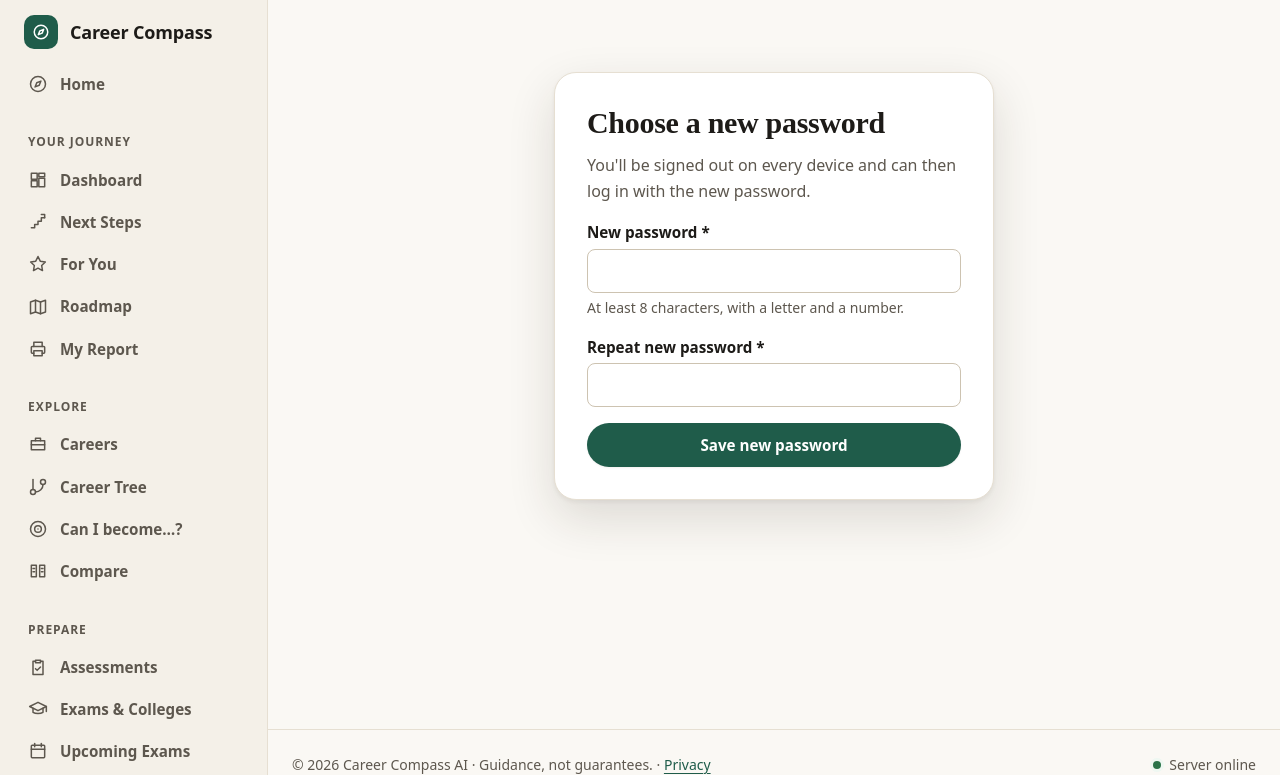
Test case: Forgot and reset password › sets a new password from the email link and goes to login
The width and height of the screenshot is (1280, 775).
In the password field labelled "New password *": point(774, 270) 587,248 -> 961,292, type "newpass99"
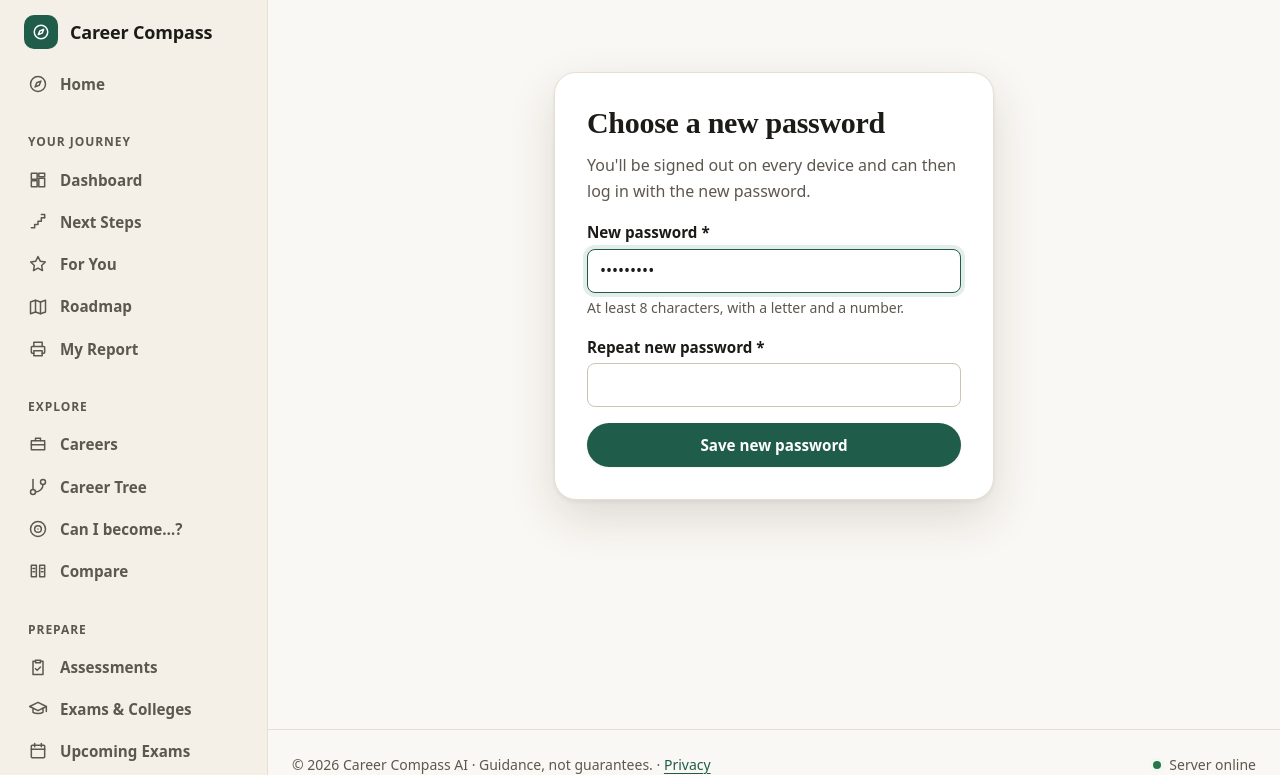
In the password field labelled "Repeat new password *": point(774, 385) 587,363 -> 961,407, type "different1"
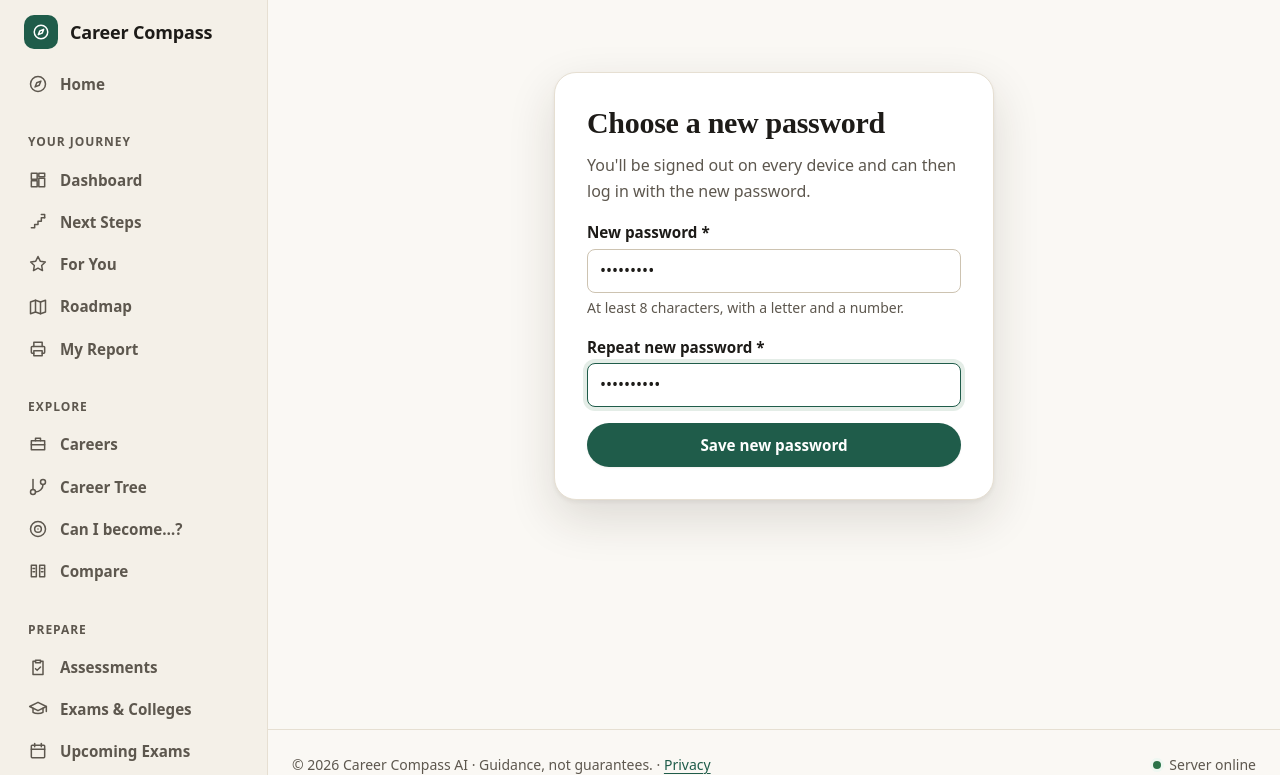
Click the button "Save new password": point(774, 445) 587,423 -> 961,467
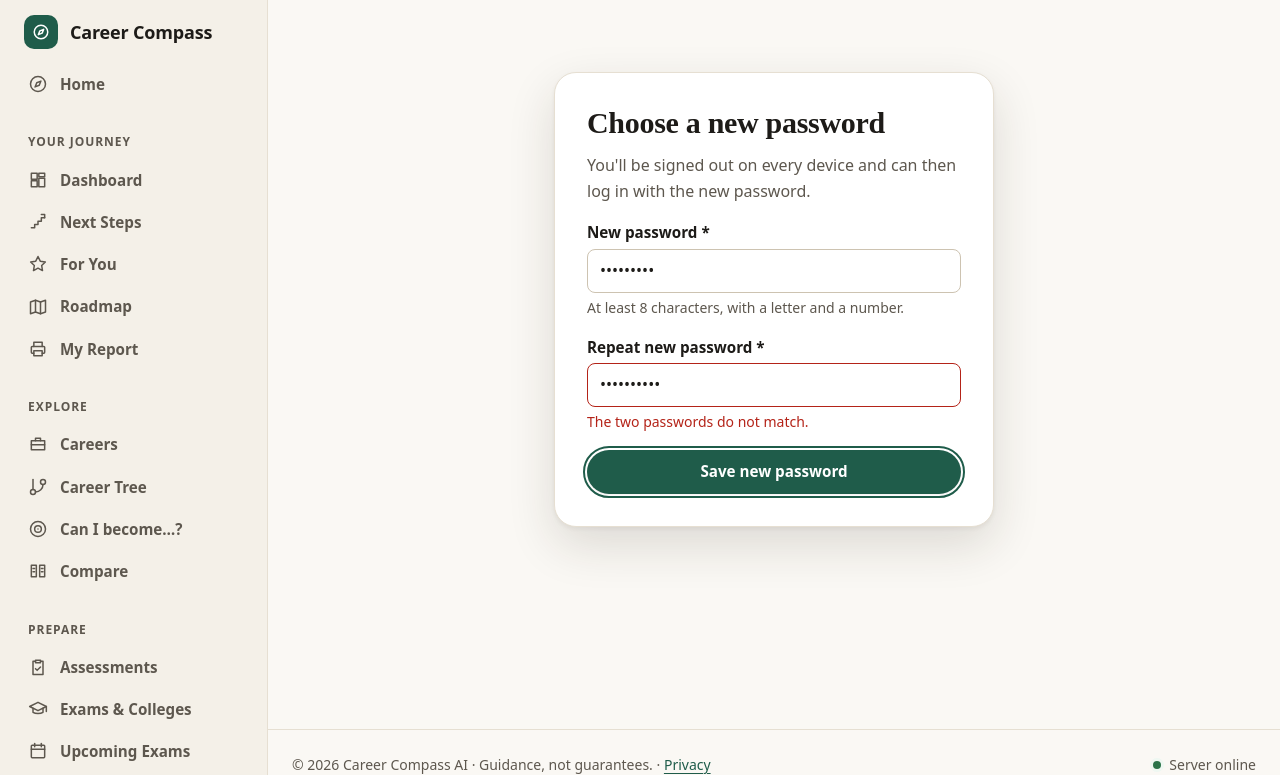
Now the text "The two passwords do not match." is shown, box 587,412 -> 809,431
In the password field labelled "Repeat new password *": point(774, 385) 587,363 -> 961,407, type "newpass99"
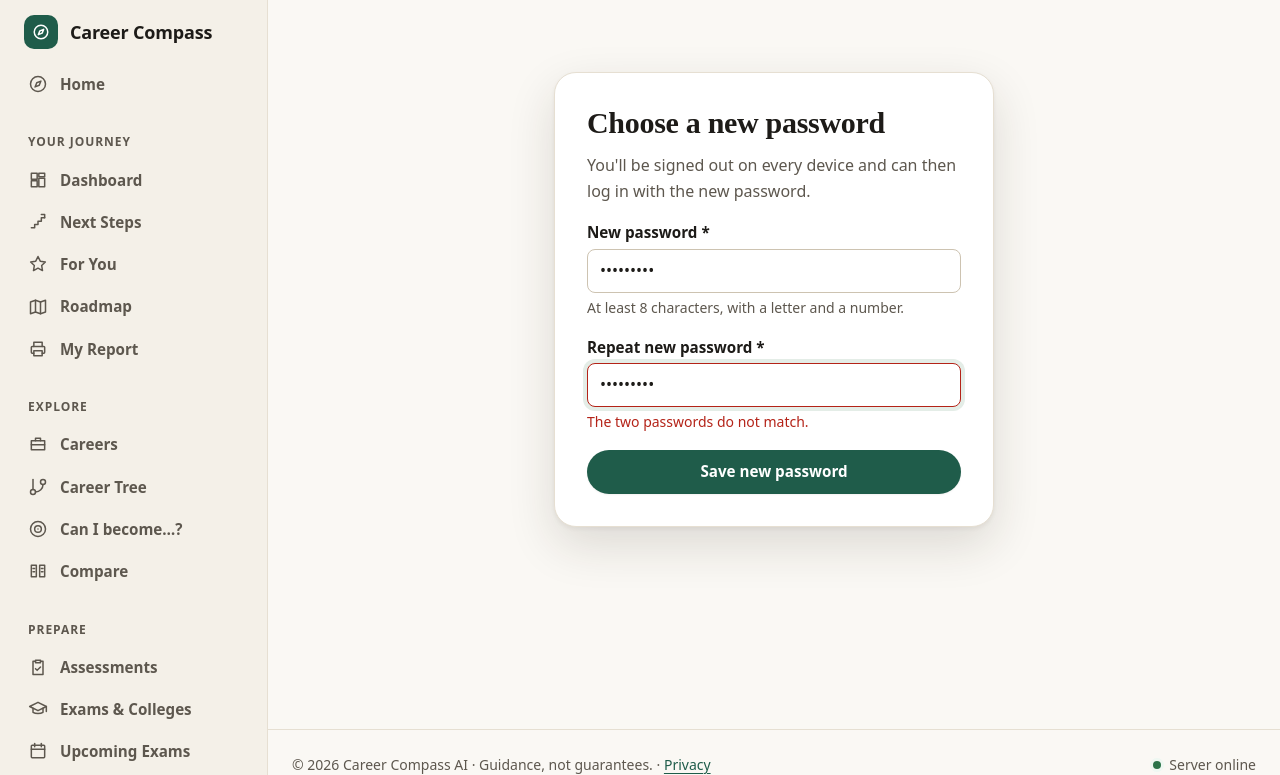
Click the button "Save new password": point(774, 472) 587,450 -> 961,494
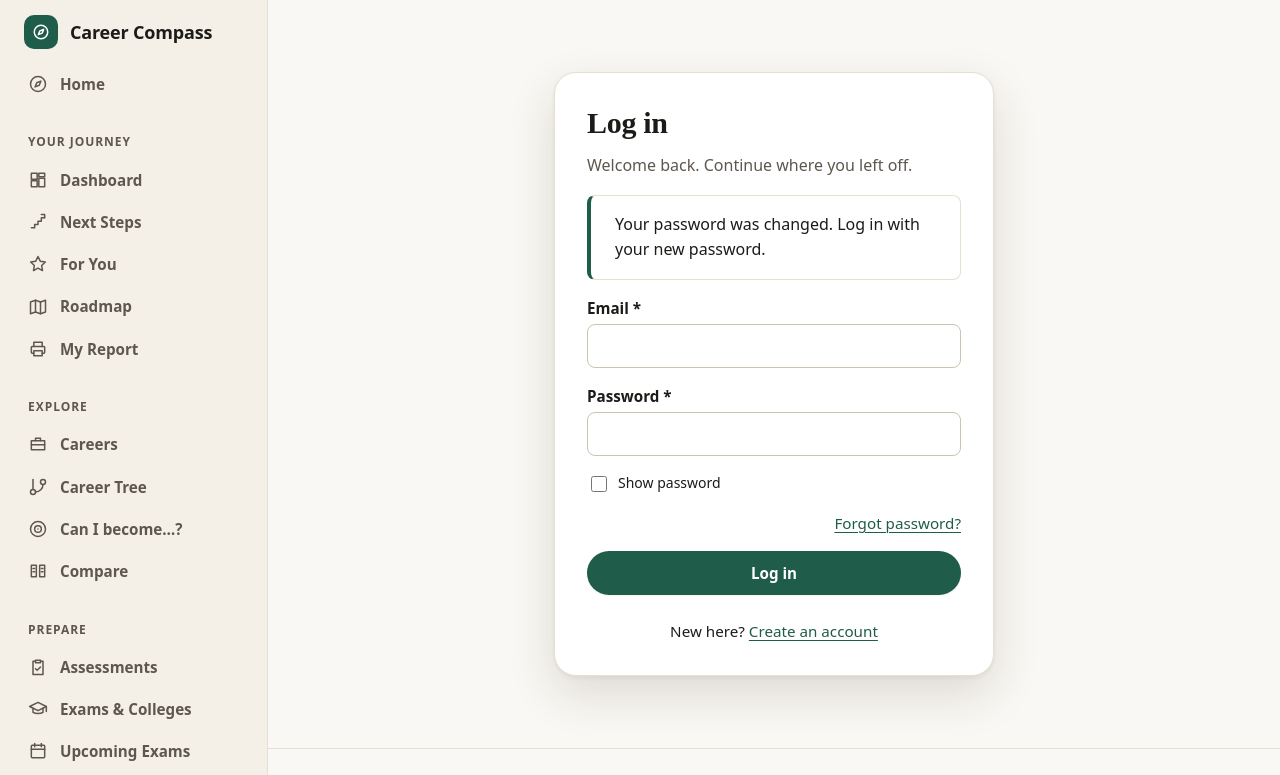
Now the heading "Log in" is shown, box 587,106 -> 668,139
